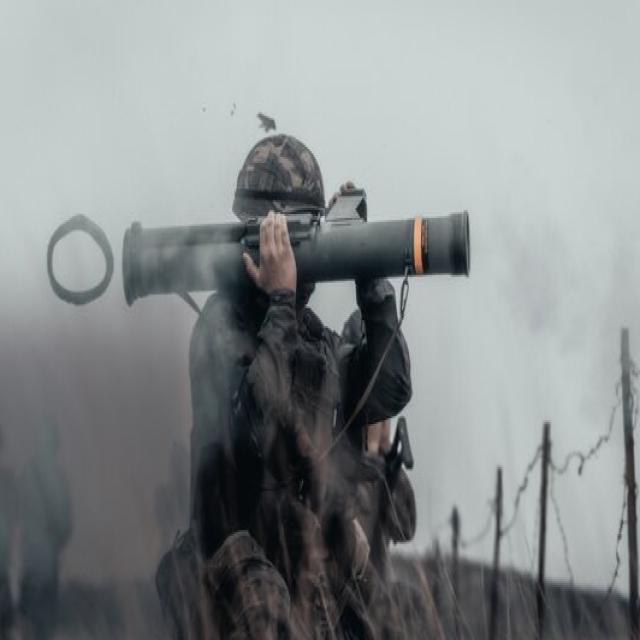Weapon: (289, 190, 469, 283)
